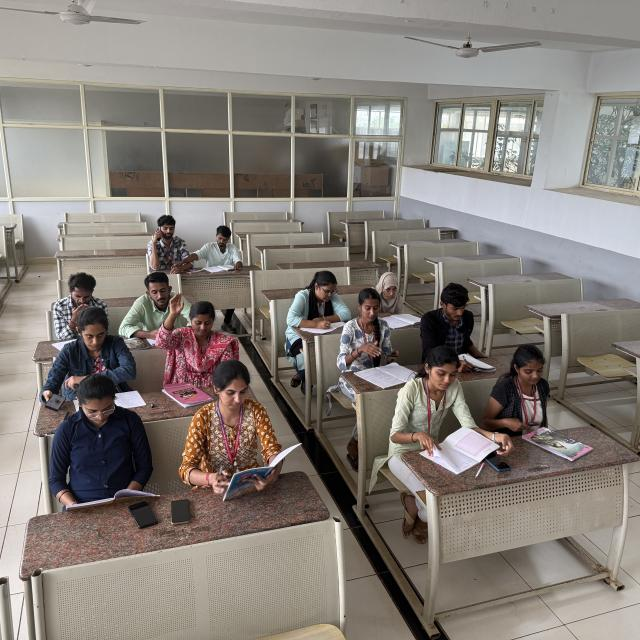Hand Rising: (169, 294, 237, 368)
Reading: (64, 372, 158, 502), (394, 354, 510, 454), (222, 361, 299, 495), (377, 270, 420, 330), (200, 227, 243, 272)
Using Phone: (494, 345, 554, 430), (351, 292, 401, 361), (147, 212, 186, 260)
Writing: (286, 264, 351, 342)
